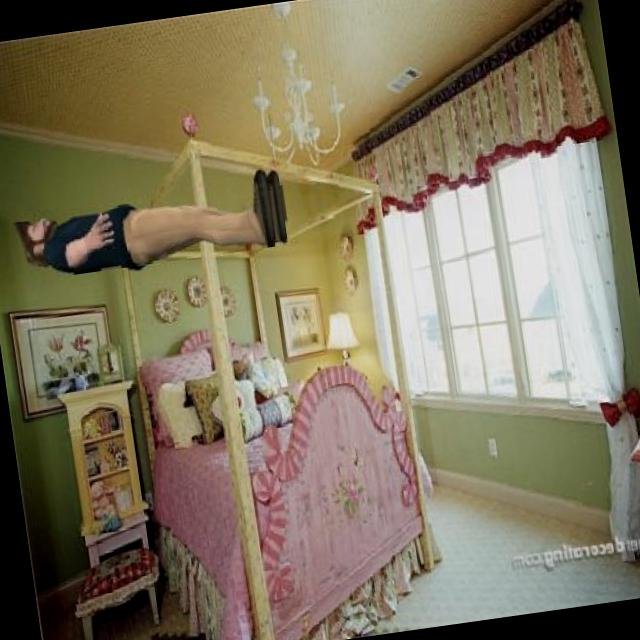Person: (8, 161, 294, 292)
